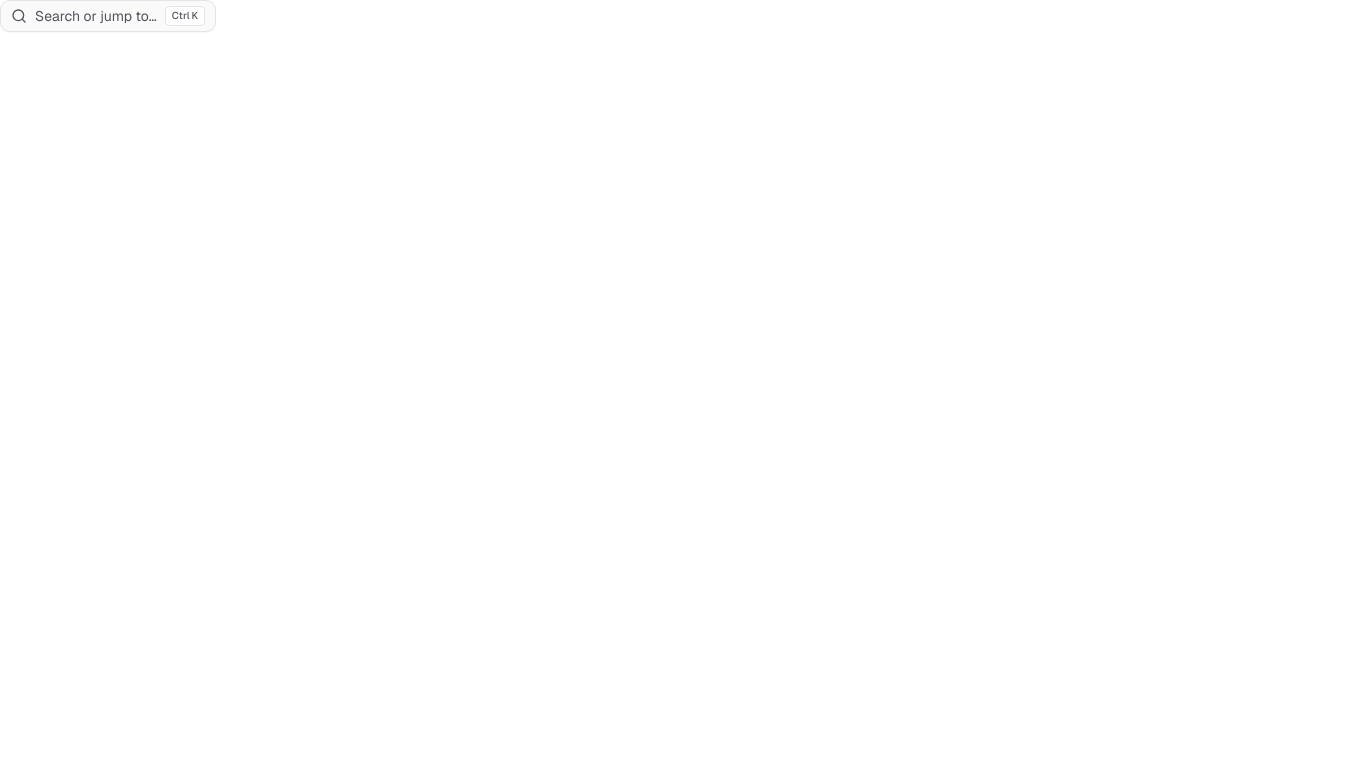
Test: CommandMenu › says when nothing matches
Type keys "{Meta>}k{/Meta}"
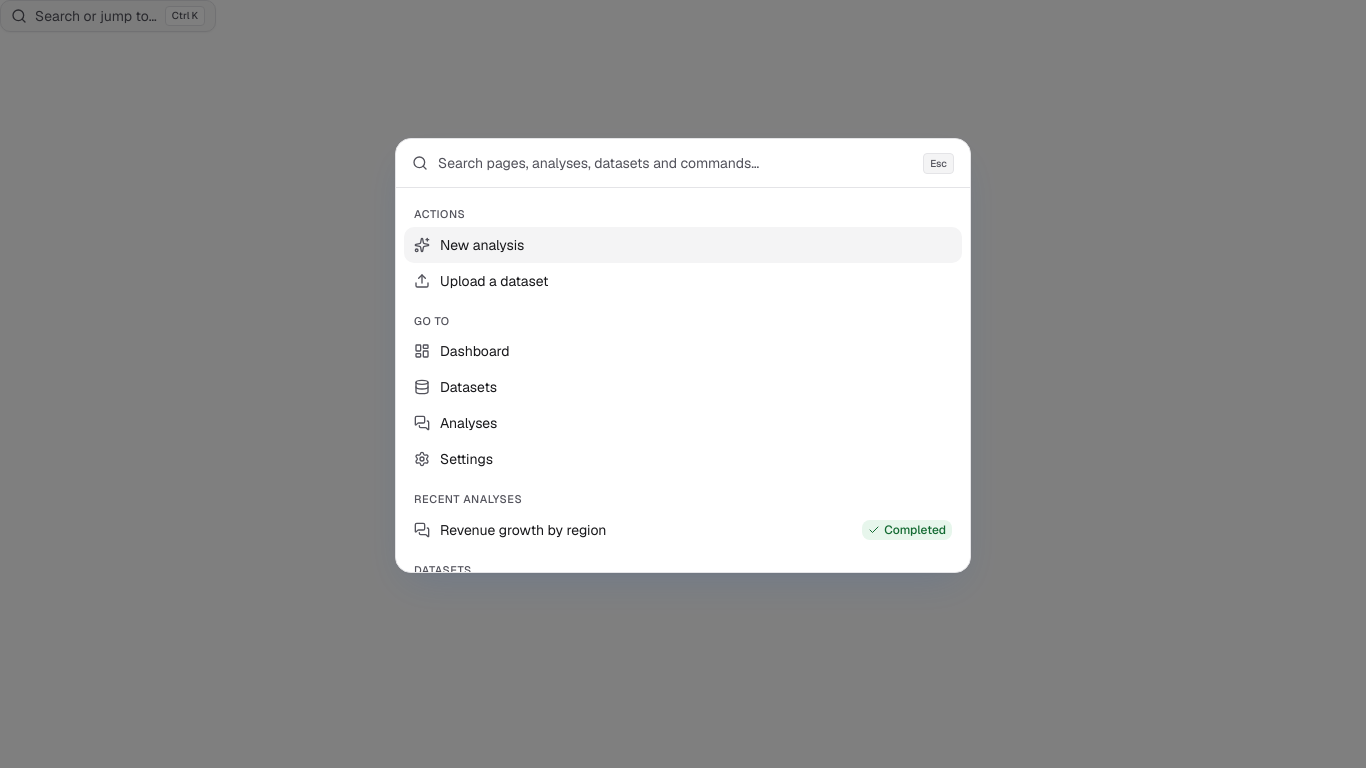
Type "zzzz-no-match" into the dropdown at [676, 163], box x1=438 y1=139 x2=913 y2=187
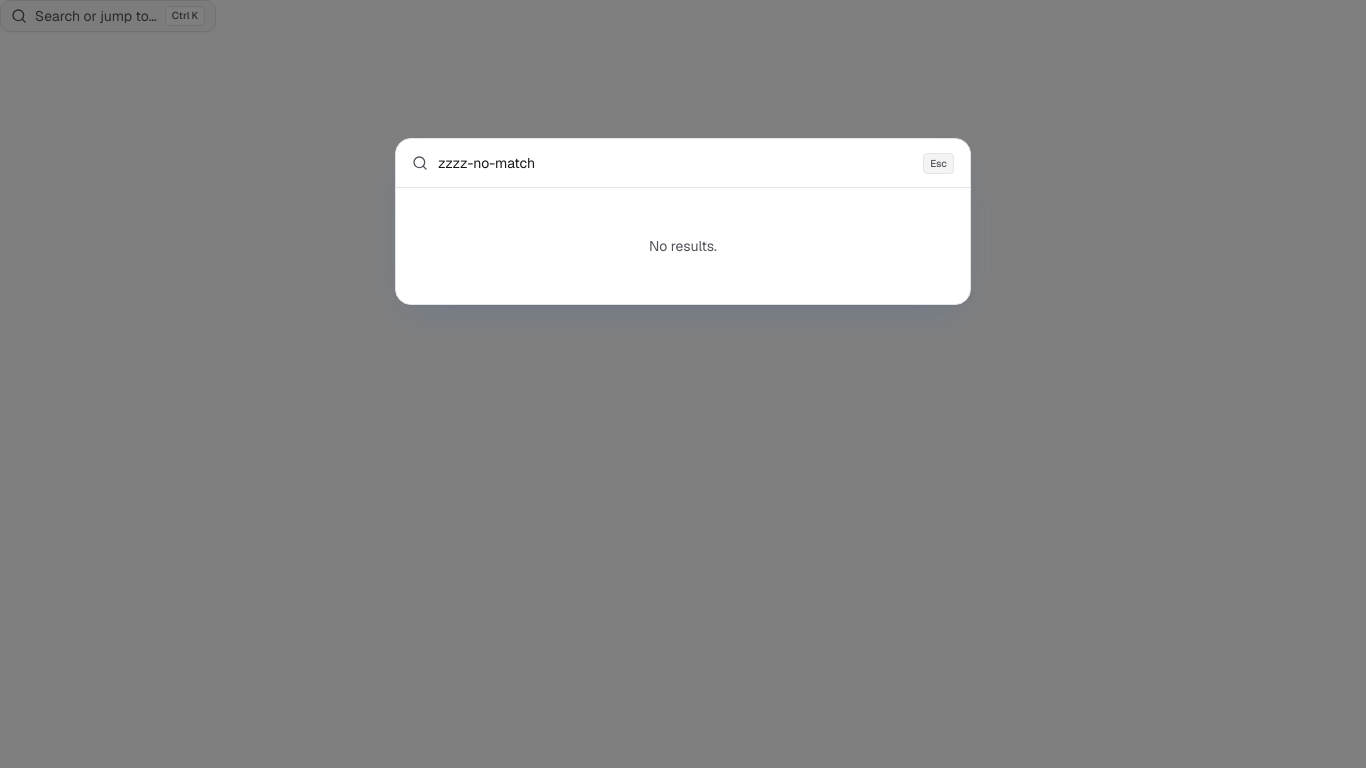
Expected: the text "No results." is shown, x1=649 y1=237 x2=717 y2=255
